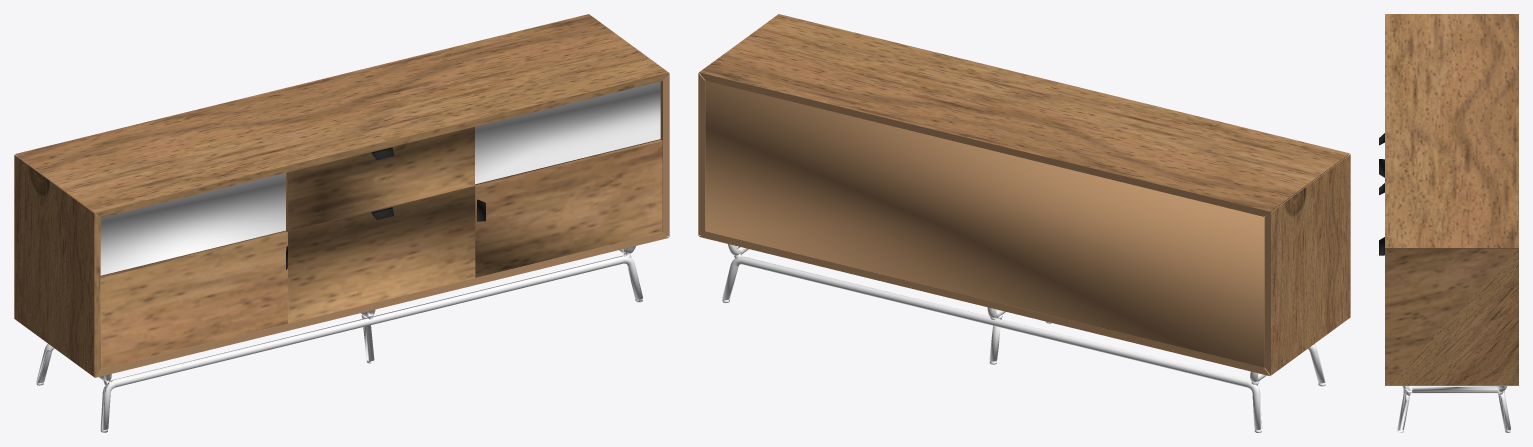
The picture shows the model from 3 angles, left to right: view 1: azimuth 30°, elevation 25°; view 2: azimuth 150°, elevation 25°; view 3: azimuth 270°, elevation 25°; orthographic projection. The views are drawn at different scales.
Parts seen in each view (by area): view 1: Dresser 005_13, Dresser 005_4, Dresser 005_12, Dresser 005_7, Dresser 005_8, Dresser 005_10, Dresser 005_11, Dresser 005; view 2: Dresser 005_6, Dresser 005_13, Dresser 005; view 3: Dresser 005_13, Dresser 005.
Boxes of the visible parts, x1,y1,x2,y2 form: Dresser 005_13: [14, 14, 669, 377]; Dresser 005_4: [100, 231, 287, 369]; Dresser 005_12: [475, 140, 662, 277]; Dresser 005_7: [286, 186, 475, 323]; Dresser 005_8: [286, 127, 474, 231]; Dresser 005_10: [99, 173, 285, 275]; Dresser 005_11: [475, 81, 660, 184]; Dresser 005: [36, 246, 642, 432]; Dresser 005_6: [705, 80, 1265, 367]; Dresser 005_13: [698, 14, 1350, 375]; Dresser 005: [722, 244, 1325, 432]; Dresser 005_13: [1385, 14, 1518, 385]; Dresser 005: [1397, 386, 1510, 432].
Size of the model in its own units: 211 by 80.59 by 53.14.
